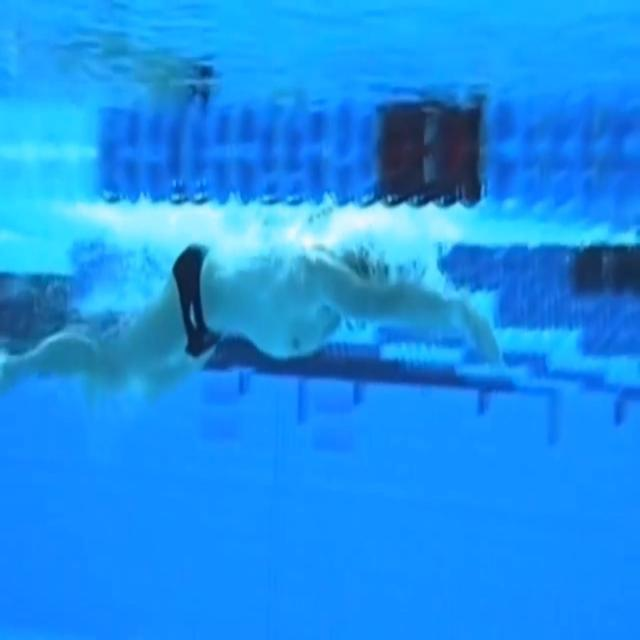Swimming: (0, 242, 503, 400)
